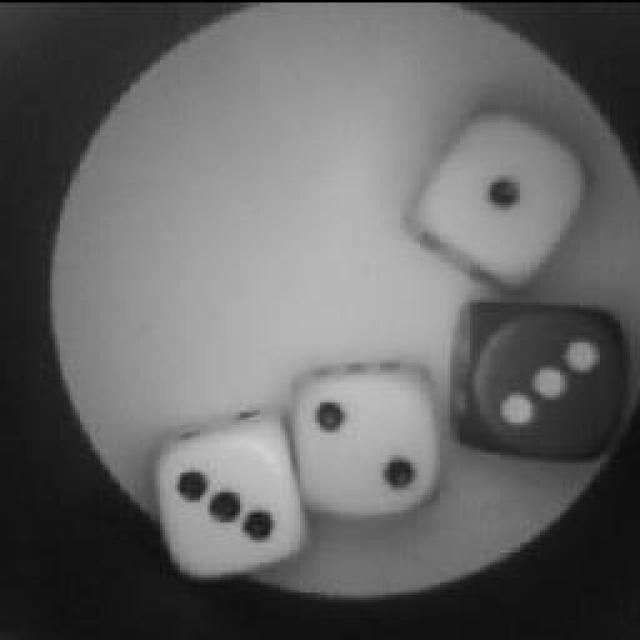dice_1: (402, 102, 588, 302)
dice_2: (290, 350, 440, 515)
dice_3: (442, 292, 640, 462), (150, 405, 302, 587)
